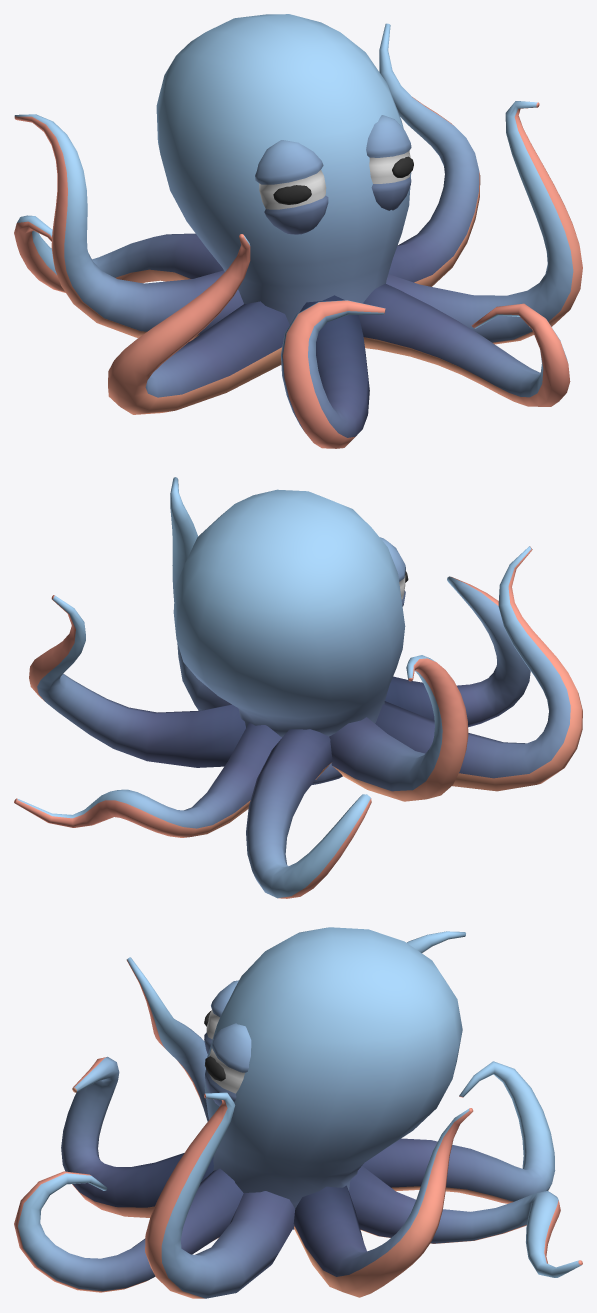
File: Octopus_01.fbx
The picture shows the model from 3 angles, top to bottom: view 1: azimuth 30°, elevation 25°; view 2: azimuth 150°, elevation 25°; view 3: azimuth 270°, elevation 25°; orthographic projection. The views are drawn at different scales.
Visible parts, largest first — view 1: Octopus_01; view 2: Octopus_01; view 3: Octopus_01.
Part boxes in pixels (left/top/right/bottom): Octopus_01: left=14, top=14, right=582, bottom=448; Octopus_01: left=14, top=477, right=582, bottom=898; Octopus_01: left=14, top=927, right=582, bottom=1298.
Size of the model in its own units: 228 by 148 by 251.
